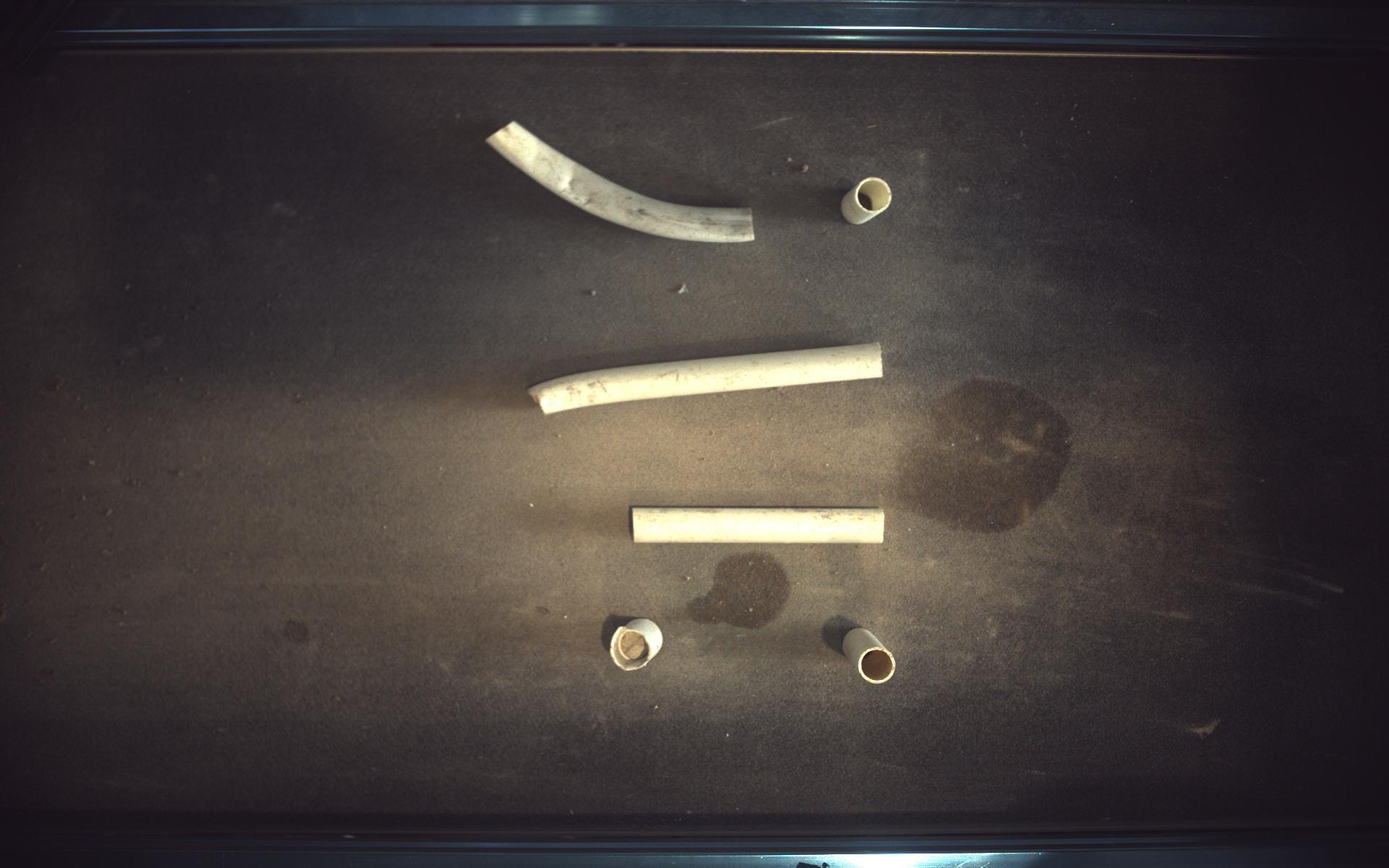pipes: (488, 122, 756, 242), (530, 342, 885, 414), (633, 509, 885, 544), (844, 629, 898, 685), (610, 620, 664, 672), (843, 177, 893, 224)
